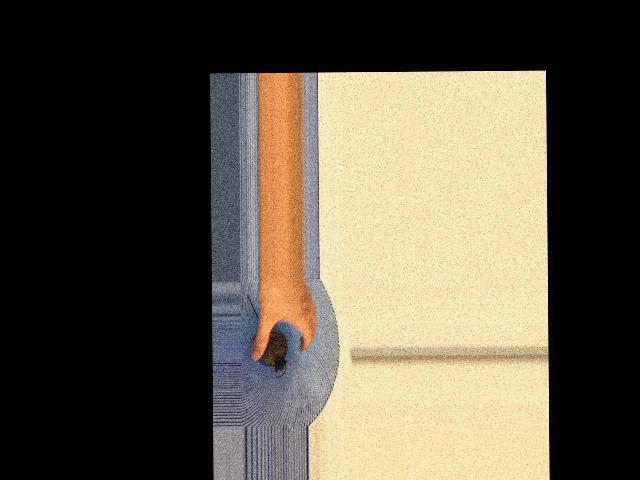beet: (246, 294, 287, 378)
